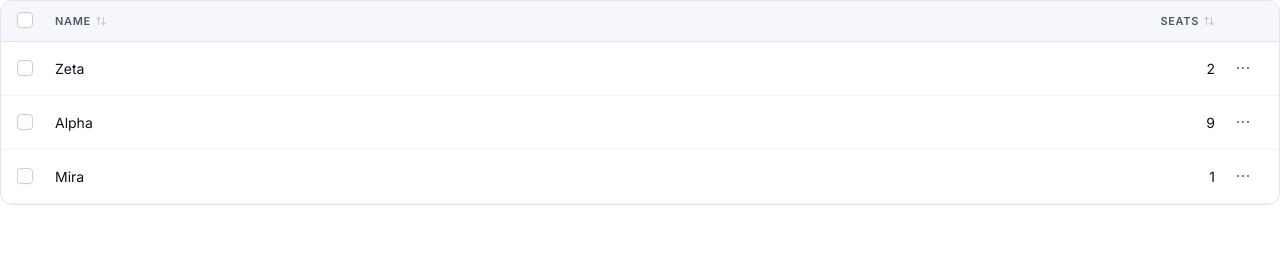
it: DataTable › selects rows individually and clears via the bulk bar
Expected: the text "selected" is not shown
Click the checkbox named "Select row": (25, 67) [17,58,33,76]
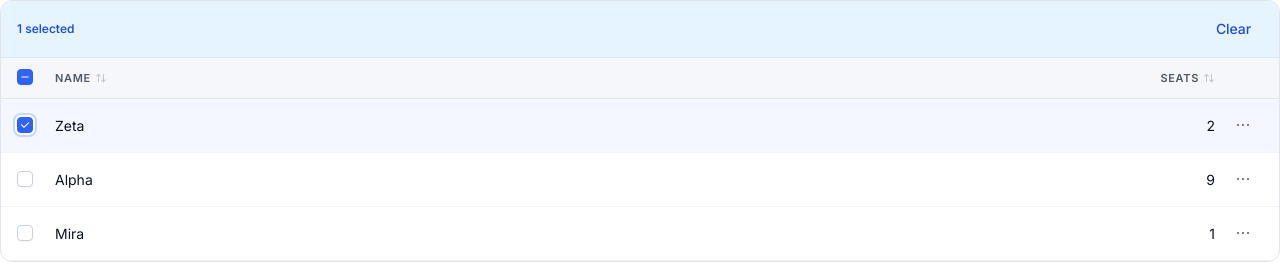
Expected: the text "1 selected" is shown, [17,20,74,38]
Click the button "Clear": (1233, 29) [1204,11,1263,47]
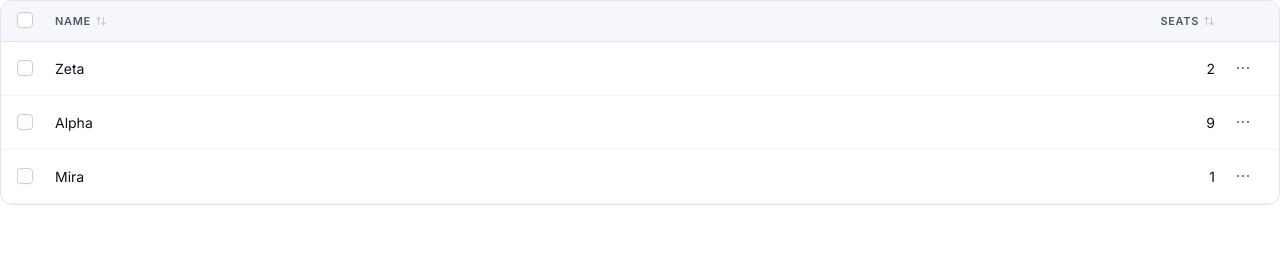
Expected: the text "1 selected" is gone
